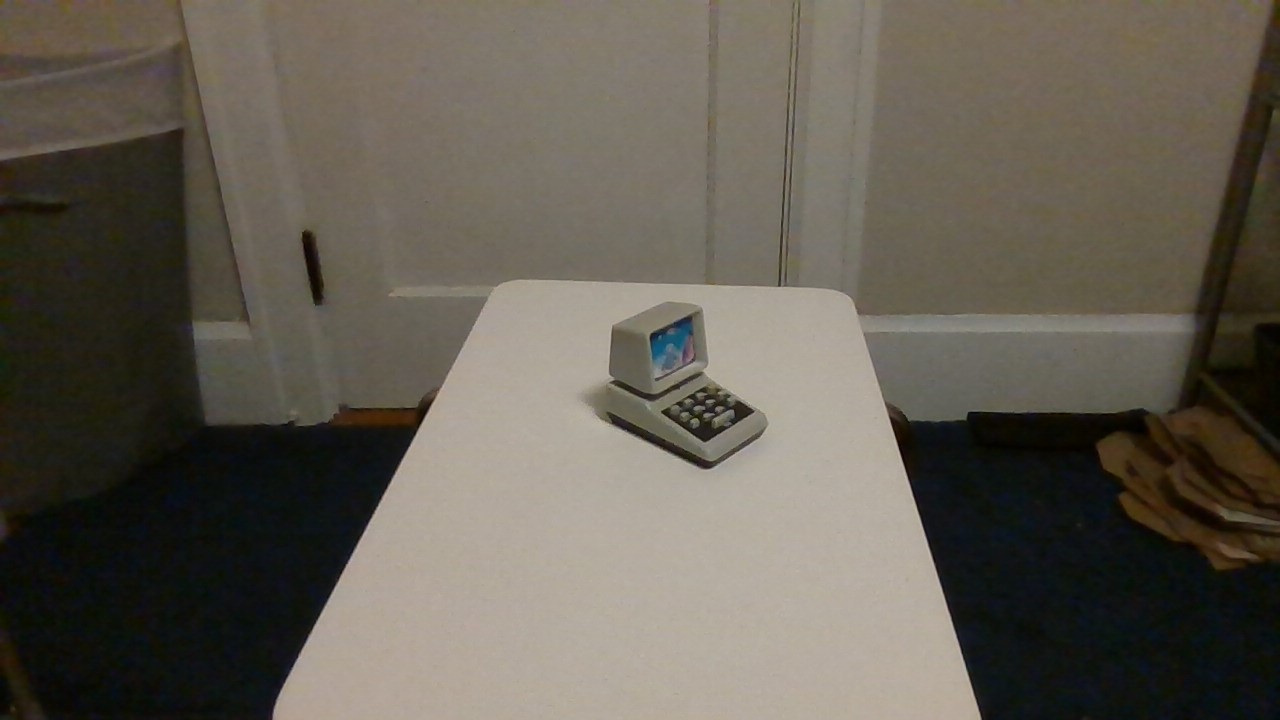Toy: (567, 284, 782, 491)
